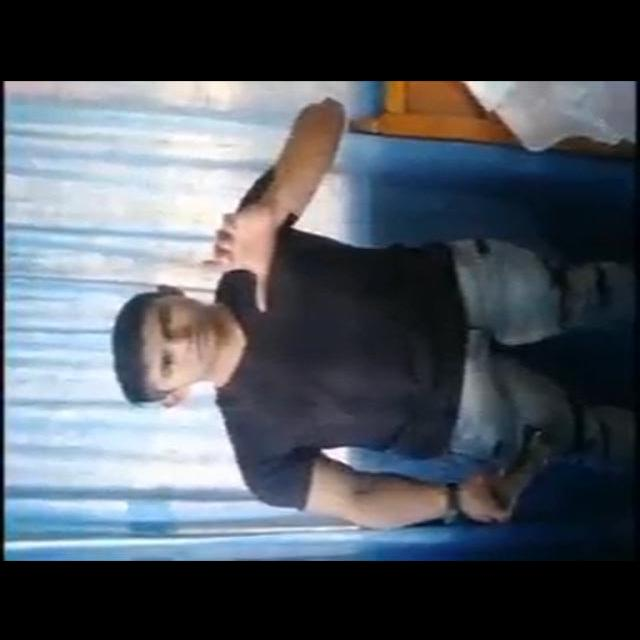L: (153, 215, 302, 312)
